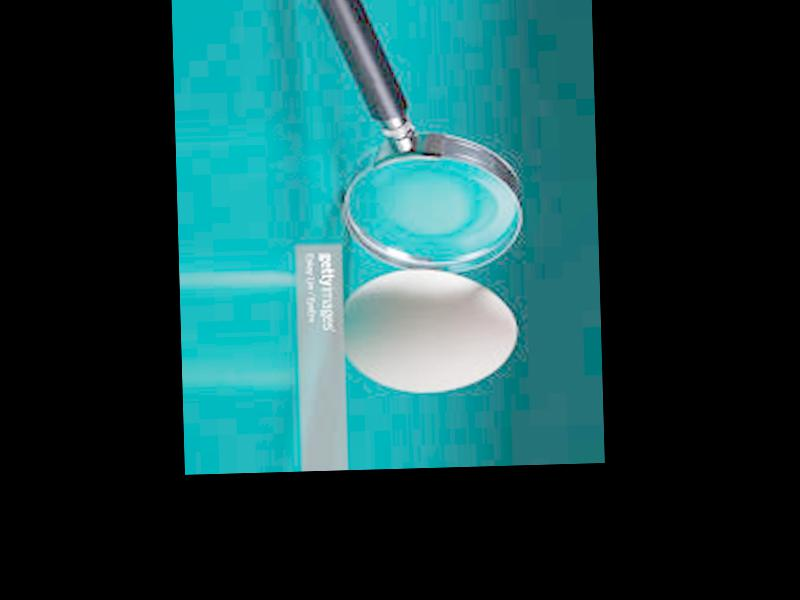Eggs: (339, 266, 519, 395)
